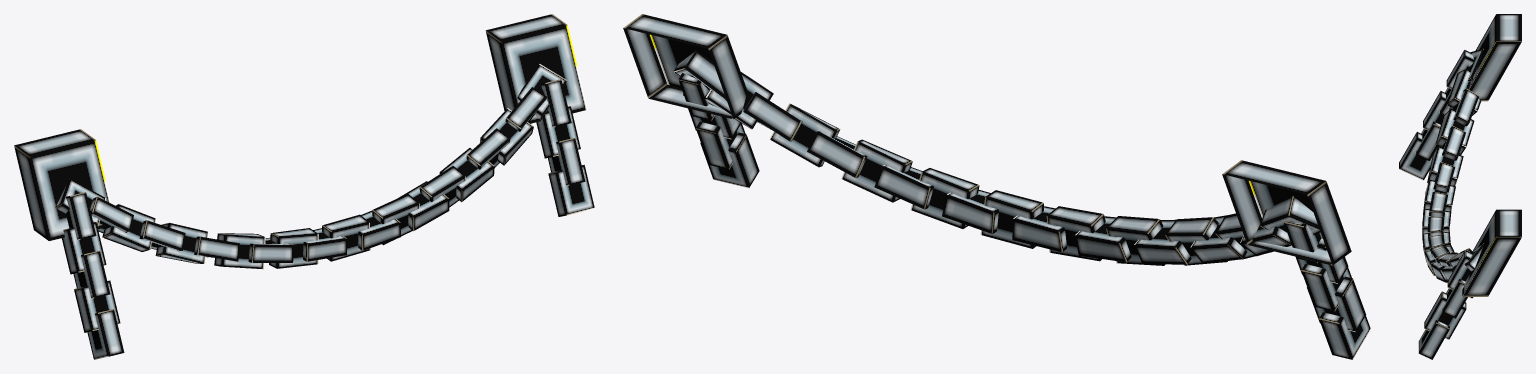
File: deco_cathedral_chainWallDiagonal.FBX
3 renders of one model, left to right at view 1: azimuth 30°, elevation 25°; view 2: azimuth 150°, elevation 25°; view 3: azimuth 270°, elevation 25°, orthographic. The views are drawn at different scales.
Parts seen in each view (by area): view 1: deco_cathedral_chainWallDiagonal; view 2: deco_cathedral_chainWallDiagonal; view 3: deco_cathedral_chainWallDiagonal.
Part boxes in pixels (<box>): deco_cathedral_chainWallDiagonal: <box>14,14,594,359</box>; deco_cathedral_chainWallDiagonal: <box>623,14,1370,359</box>; deco_cathedral_chainWallDiagonal: <box>1399,14,1521,359</box>.
Size of the model in its own units: 3.44 by 1.08 by 0.7985.
Materials: 1 (1 with a texture image).
